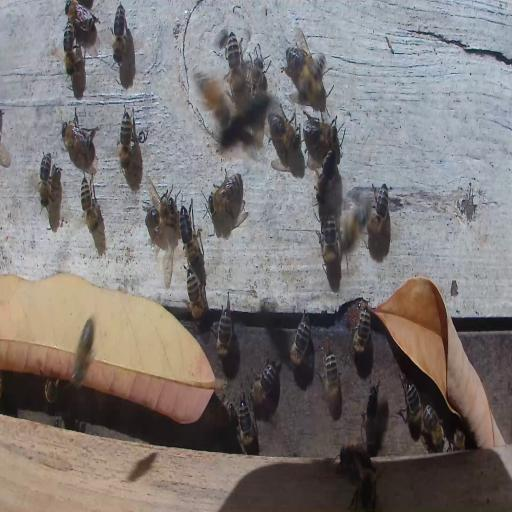nonpollenbee: (198, 70, 232, 126), (58, 116, 96, 162), (253, 350, 282, 410), (320, 346, 341, 420), (144, 192, 179, 236), (208, 171, 243, 214), (303, 115, 340, 154), (266, 110, 297, 154), (178, 204, 200, 266), (400, 378, 422, 438), (348, 302, 372, 357), (235, 396, 257, 454), (290, 311, 312, 368), (248, 47, 272, 99), (80, 176, 102, 232), (368, 182, 390, 235), (422, 403, 446, 451), (320, 211, 338, 273), (185, 268, 206, 321), (224, 32, 242, 92), (316, 154, 336, 204), (65, 2, 97, 33), (343, 202, 364, 249), (118, 106, 132, 172), (216, 302, 232, 357), (112, 3, 126, 64), (338, 441, 368, 469), (38, 150, 52, 208), (355, 472, 375, 512), (63, 20, 76, 76), (44, 378, 58, 406), (451, 426, 465, 452)
pollenbee: (69, 312, 97, 386), (297, 54, 326, 104)
